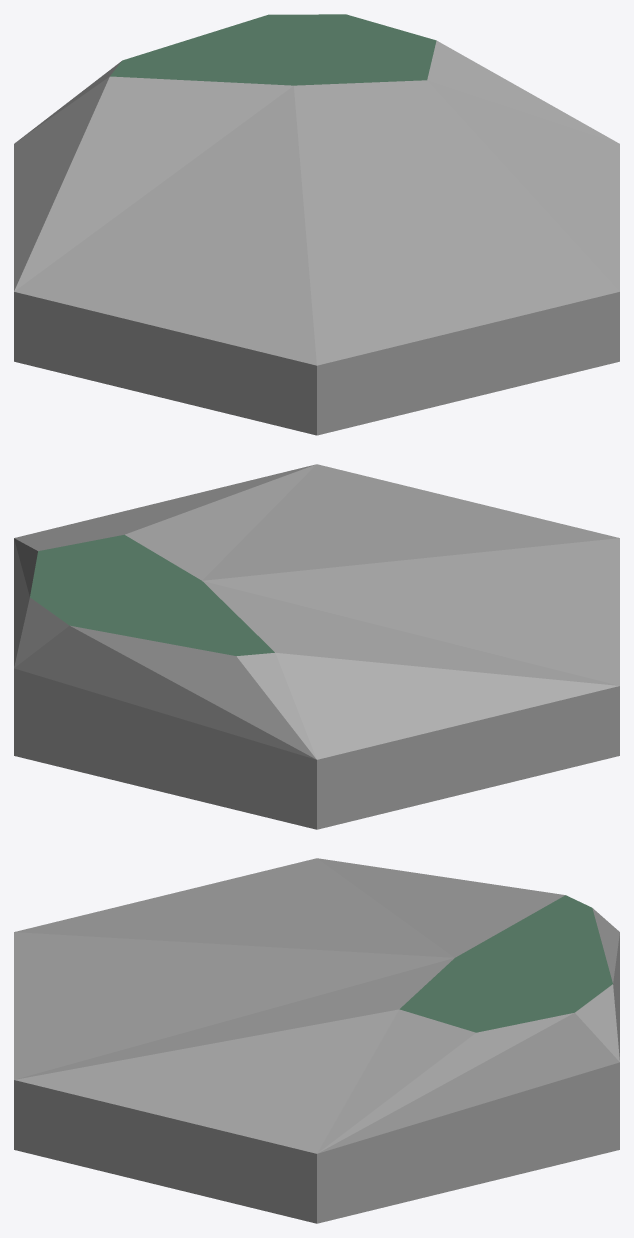
The model's file is Hex07.fbx.
The picture shows the model from 3 angles, top to bottom: view 1: azimuth 30°, elevation 25°; view 2: azimuth 150°, elevation 25°; view 3: azimuth 270°, elevation 25°; orthographic projection.
Visible parts, largest first — view 1: Hex07; view 2: Hex07; view 3: Hex07.
Boxes of the visible parts, x1,y1,x2,y2 form: Hex07: [14, 14, 619, 435]; Hex07: [14, 464, 619, 829]; Hex07: [14, 858, 619, 1223].
Size of the model in its own units: 1.67 by 0.3694 by 1.44.
